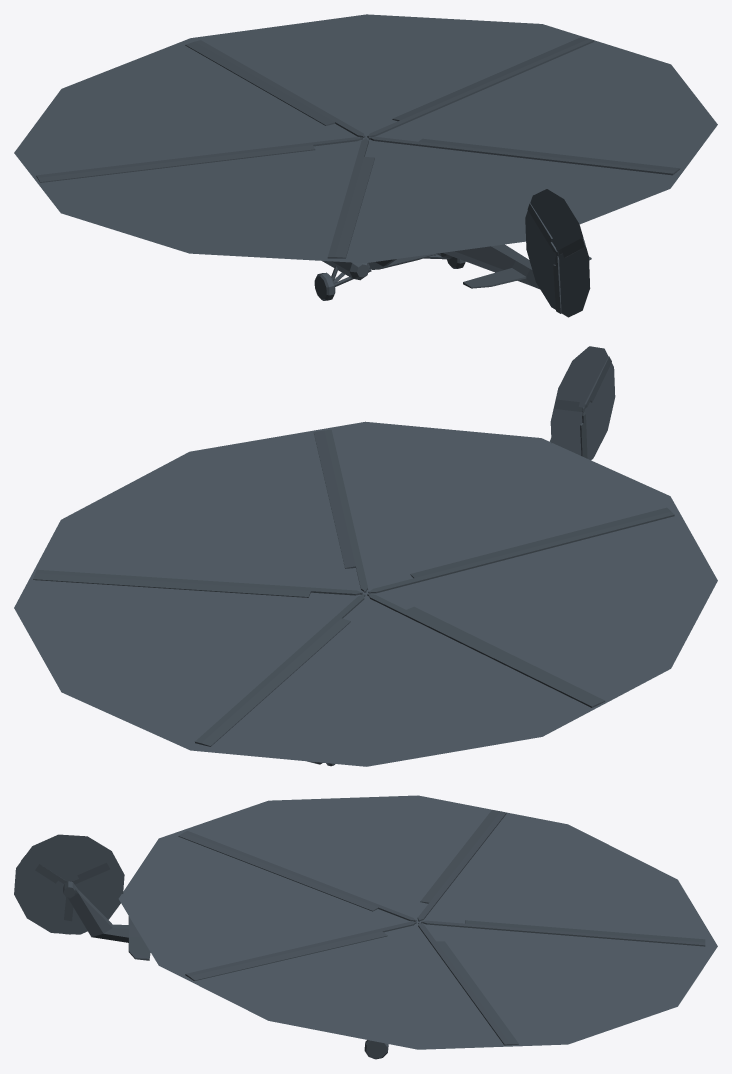
Rendered from Heli-MI17.glb.
3 views of the same model, one above another, from view 1: azimuth 30°, elevation 25°; view 2: azimuth 150°, elevation 25°; view 3: azimuth 270°, elevation 25° (orthographic). The views are drawn at different scales.
Bounding box in the file's own units: 17.75 × 6.59 × 20.77.
